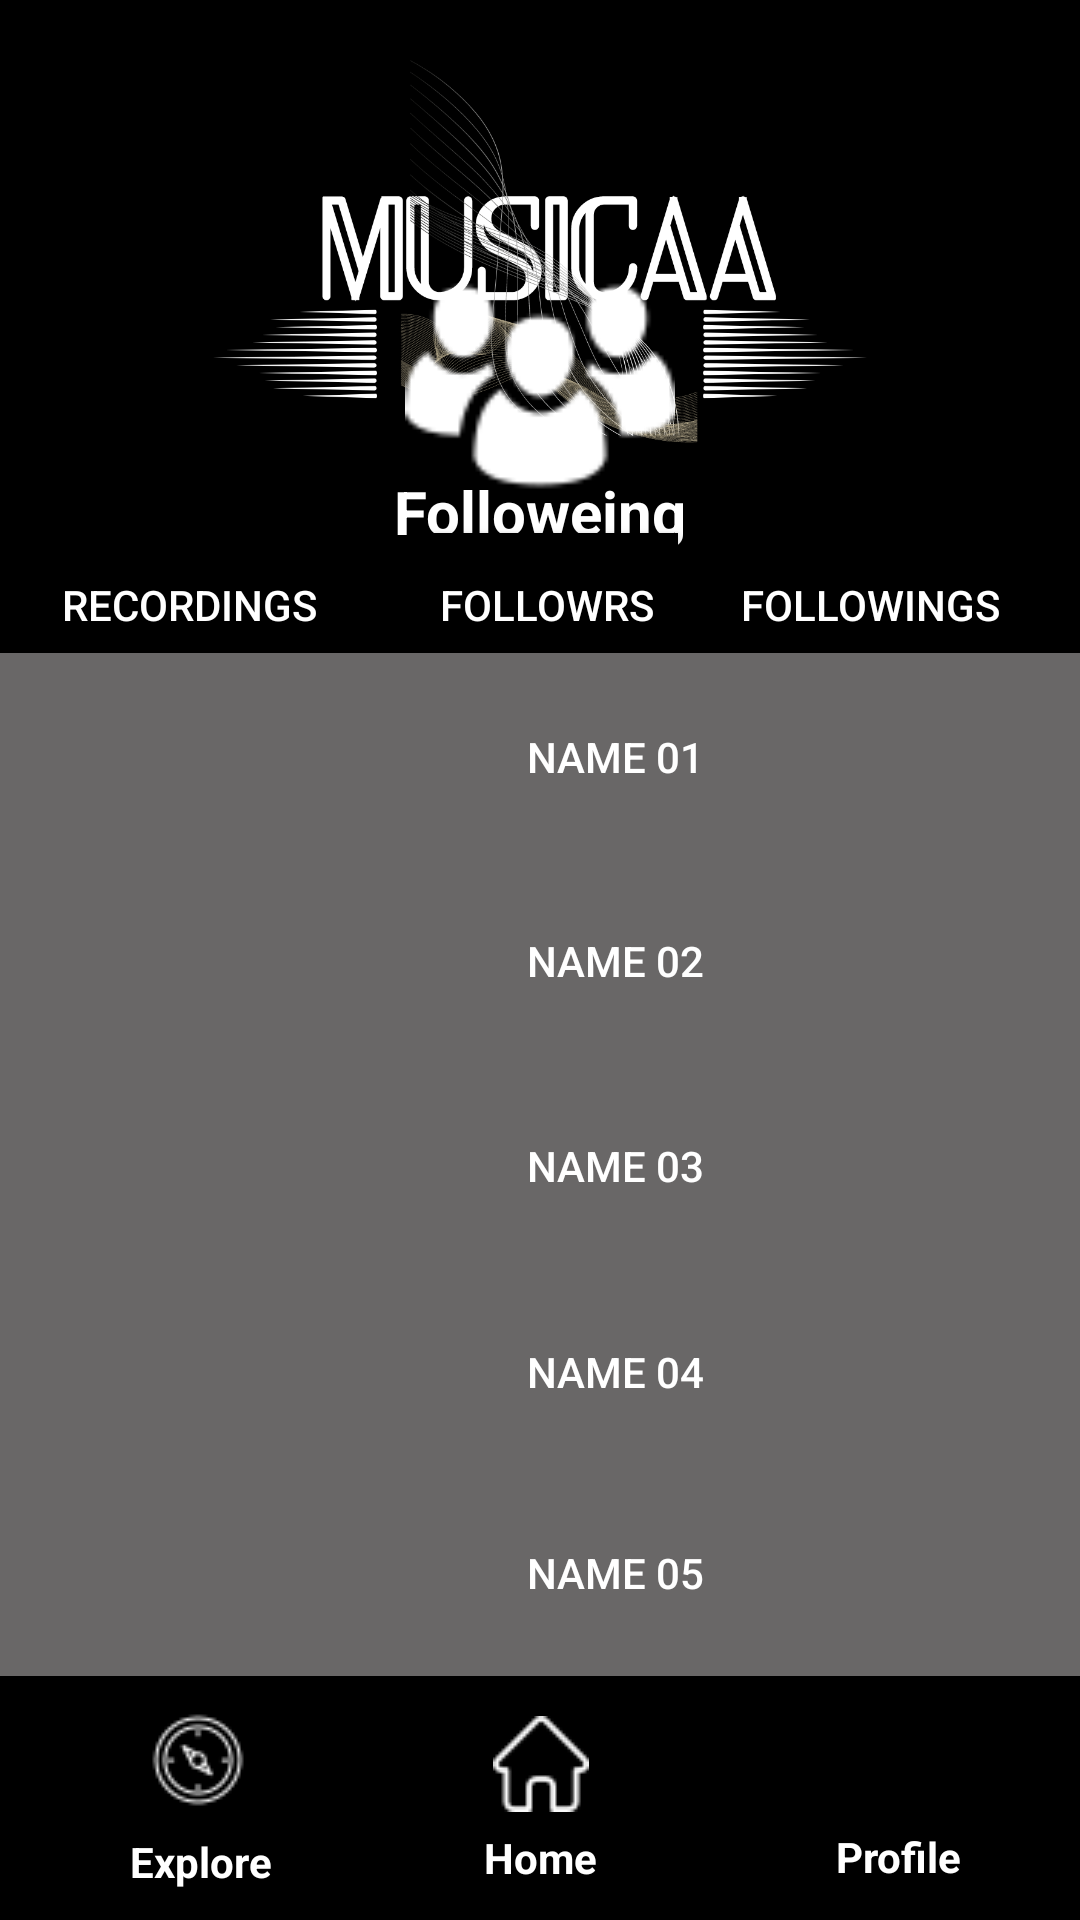

Screen size 1080 × 1920. Icon name, then its center in pixels as point (x, y):
friends: point (540, 386)
